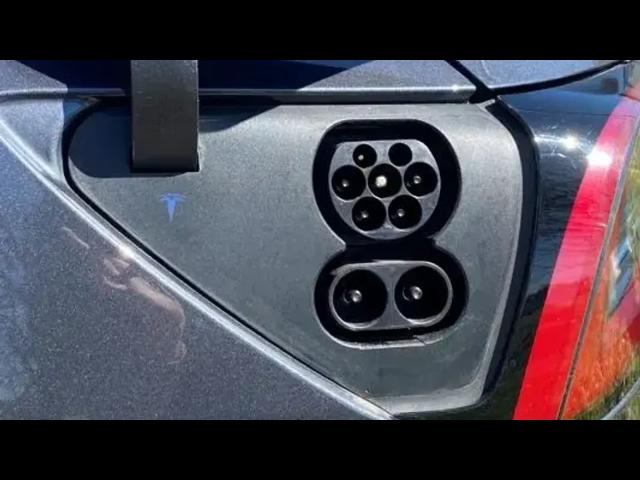inlet: (328, 139, 441, 240)
inlet-above-left: (353, 143, 377, 168)
inlet-above-right: (388, 143, 413, 168)
inlet-below-left: (351, 196, 386, 231)
inlet-below-right: (387, 194, 422, 230)
inlet-circle: (368, 163, 403, 198)
inlet-circle-left: (332, 164, 366, 201)
inlet-circle-right: (404, 163, 437, 196)
inlet-minus: (394, 266, 449, 324)
inlet-plus: (332, 269, 388, 328)
